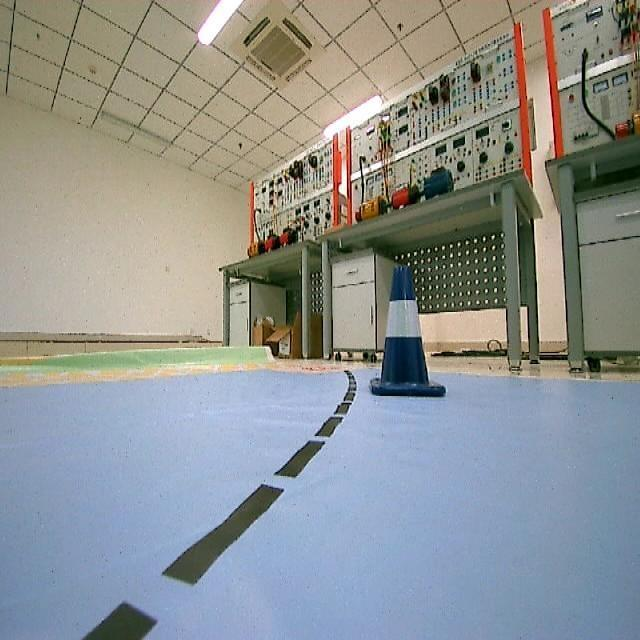obstacle: (362, 256, 450, 408)
